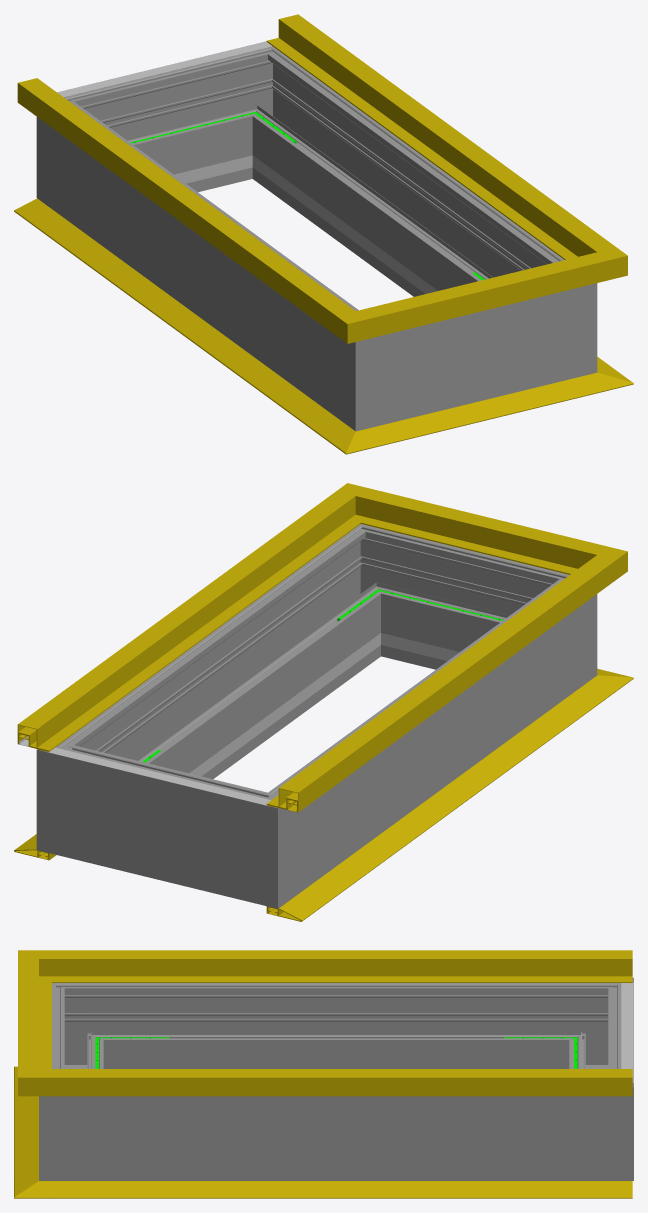
The picture shows the model from 3 angles, top to bottom: view 1: azimuth 30°, elevation 25°; view 2: azimuth 150°, elevation 25°; view 3: azimuth 270°, elevation 25°; orthographic projection. The views are drawn at different scales.
Parts seen in each view (by area): view 1: 3DGeom-297, 3DGeom-268, 3DGeom-128, 3DGeom-118, 3DGeom-276, 3DGeom-270, 3DGeom-38, 3DGeom-298, 3DGeom-284, 3DGeom-290, 3DGeom-278, 3DGeom-123 (+8 smaller); view 2: 3DGeom-297, 3DGeom-268, 3DGeom-128, 3DGeom-118, 3DGeom-278, 3DGeom-276, 3DGeom-298, 3DGeom-38, 3DGeom-284, 3DGeom-290, 3DGeom-123, 3DGeom-270 (+6 smaller); view 3: 3DGeom-268, 3DGeom-297, 3DGeom-118, 3DGeom-128, 3DGeom-30, 3DGeom-284, 3DGeom-290, 3DGeom-278, 3DGeom-270, 3DGeom-120, 3DGeom-125, 3DGeom-123 (+5 smaller).
Part boxes in pixels (x1,y1,x2,y2): 3DGeom-297: (259, 72, 543, 296); 3DGeom-268: (78, 122, 337, 400); 3DGeom-128: (266, 14, 585, 252); 3DGeom-118: (17, 78, 324, 313); 3DGeom-276: (111, 58, 240, 192); 3DGeom-270: (314, 295, 427, 431); 3DGeom-38: (14, 198, 326, 423); 3DGeom-298: (427, 301, 525, 413); 3DGeom-284: (208, 41, 307, 183); 3DGeom-290: (525, 244, 597, 389); 3DGeom-278: (36, 82, 143, 227); 3DGeom-123: (408, 265, 555, 326); 3DGeom-297: (90, 549, 374, 778); 3DGeom-268: (296, 599, 555, 877); 3DGeom-128: (17, 513, 337, 751); 3DGeom-118: (266, 577, 586, 812); 3DGeom-278: (206, 772, 319, 908); 3DGeom-276: (108, 757, 219, 891); 3DGeom-298: (393, 538, 518, 669); 3DGeom-38: (266, 696, 592, 921); 3DGeom-284: (36, 722, 121, 867); 3DGeom-290: (326, 524, 420, 660); 3DGeom-123: (401, 500, 555, 566); 3DGeom-270: (490, 562, 597, 705); 3DGeom-268: (116, 983, 556, 1068); 3DGeom-297: (116, 1096, 556, 1180); 3DGeom-118: (95, 950, 632, 982); 3DGeom-128: (95, 1069, 632, 1096); 3DGeom-30: (91, 1181, 632, 1198); 3DGeom-284: (556, 1054, 633, 1180); 3DGeom-290: (39, 1054, 116, 1180); 3DGeom-278: (556, 977, 633, 1068); 3DGeom-270: (52, 983, 116, 1068); 3DGeom-120: (18, 950, 95, 1000); 3DGeom-125: (18, 1045, 95, 1096); 3DGeom-123: (18, 983, 51, 1062).
Size of the model in its own units: 0.6096 by 0.2596 by 1.22.
